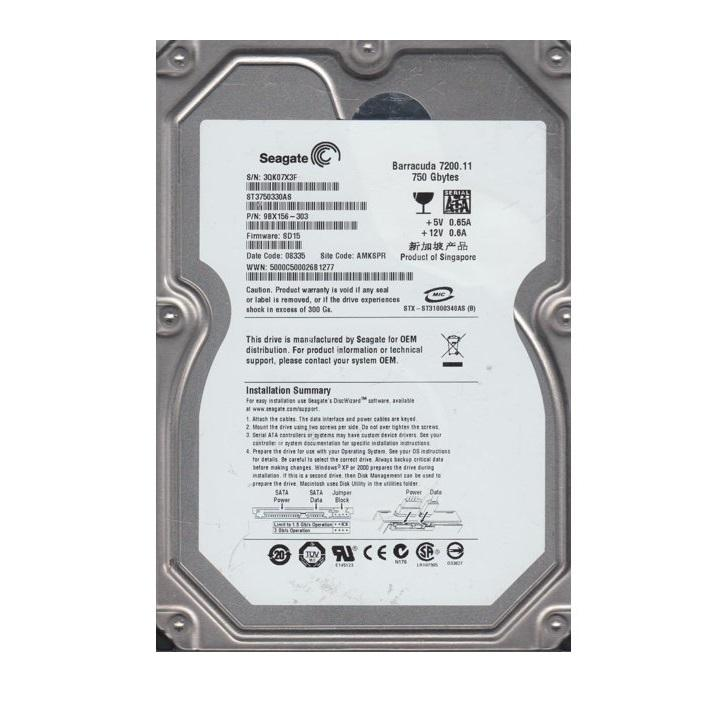internal HDD: (155, 40, 572, 655)
